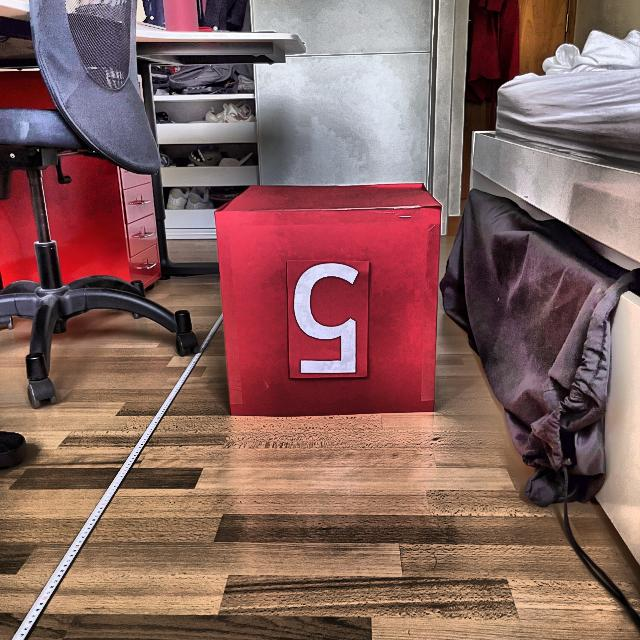five: (290, 260, 362, 378)
red box: (213, 180, 439, 418)
